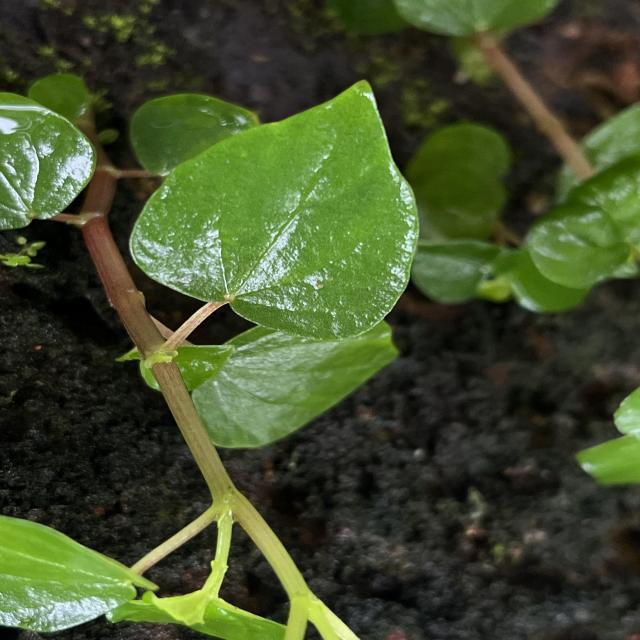Peperomia pellucida: (128, 75, 424, 343)
